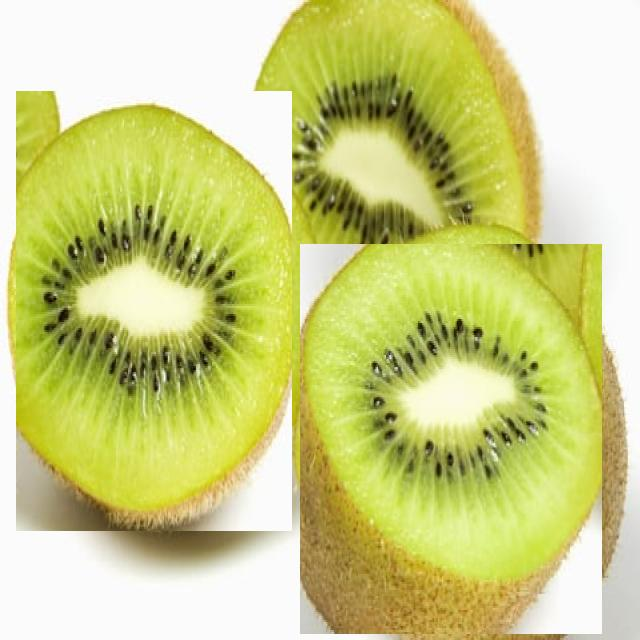Qiwi: (16, 91, 292, 532), (300, 244, 602, 634), (245, 1, 552, 213)
